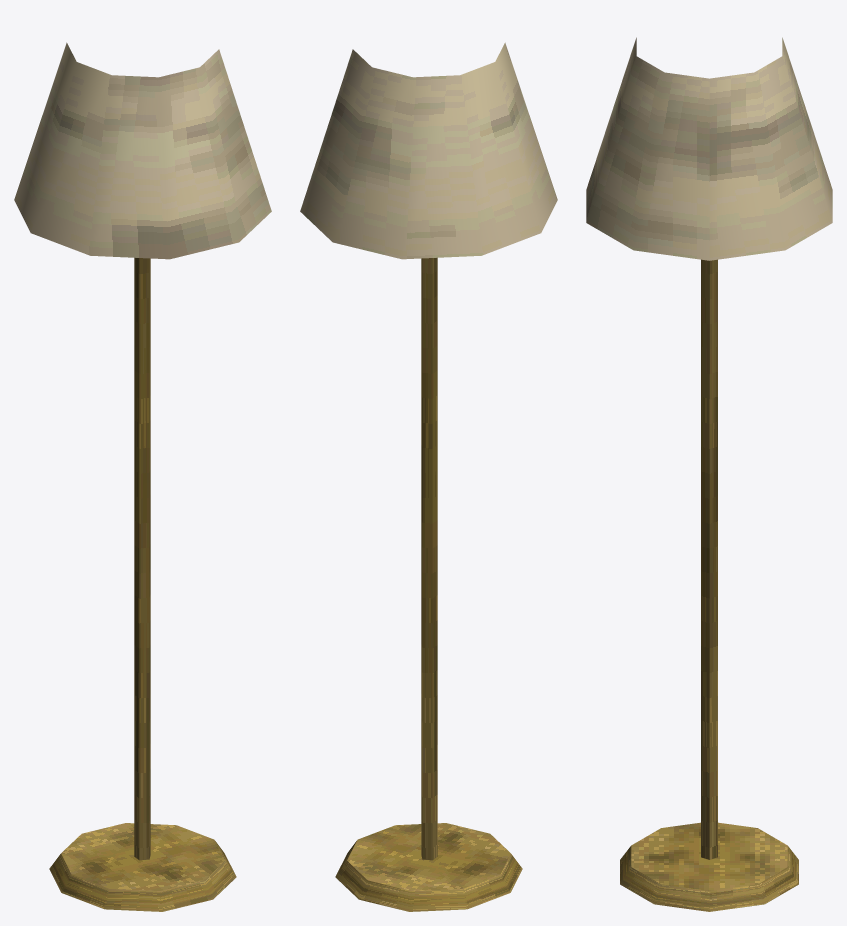
File: floor_lamp.glb
The picture shows the model from 3 angles, left to right: view 1: azimuth 30°, elevation 25°; view 2: azimuth 150°, elevation 25°; view 3: azimuth 270°, elevation 25°; orthographic projection.
Visible parts, largest first — view 1: floor_lamp; view 2: floor_lamp; view 3: floor_lamp.
Boxes of the visible parts, x1=… form: floor_lamp: x1=14, y1=42, x2=271, y2=911; floor_lamp: x1=300, y1=42, x2=557, y2=911; floor_lamp: x1=586, y1=37, x2=832, y2=911.
Bounding box in the file's own units: 0.44 × 1.55 × 0.4185.
Materials: 1 (1 with a texture image).
